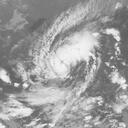cyclone: (23, 8, 115, 105)
